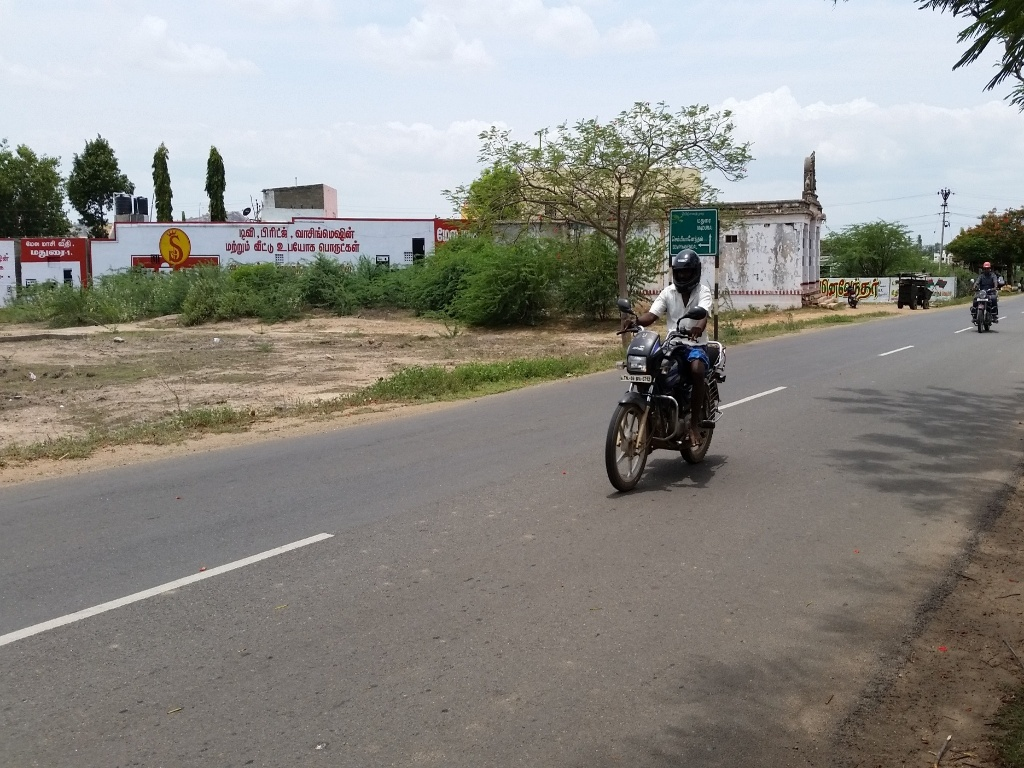biker: (591, 216, 773, 505)
helmet: (665, 236, 710, 300)
